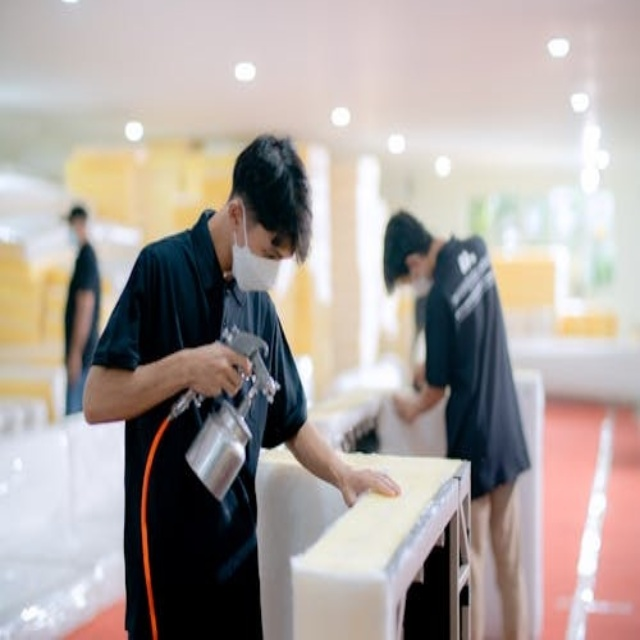Mascara: (225, 200, 282, 292)
Sin_gafas: (246, 229, 288, 263)
Sin_guantes: (187, 339, 256, 405), (342, 463, 402, 507)
